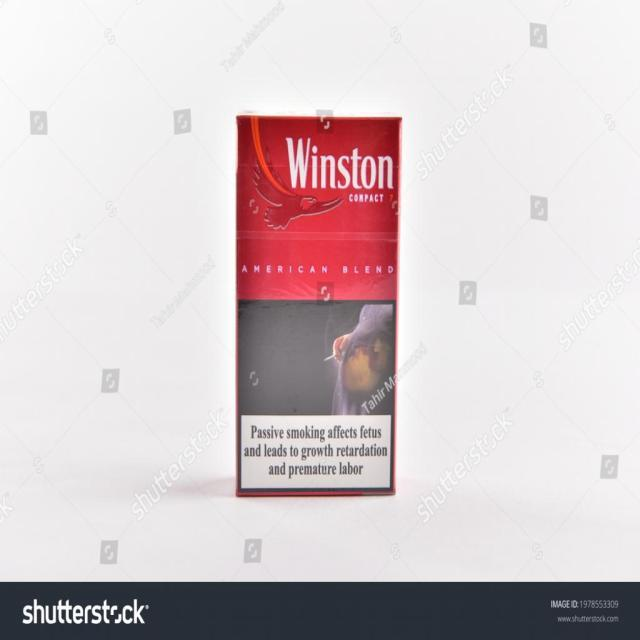smoking: (236, 114, 401, 497)
